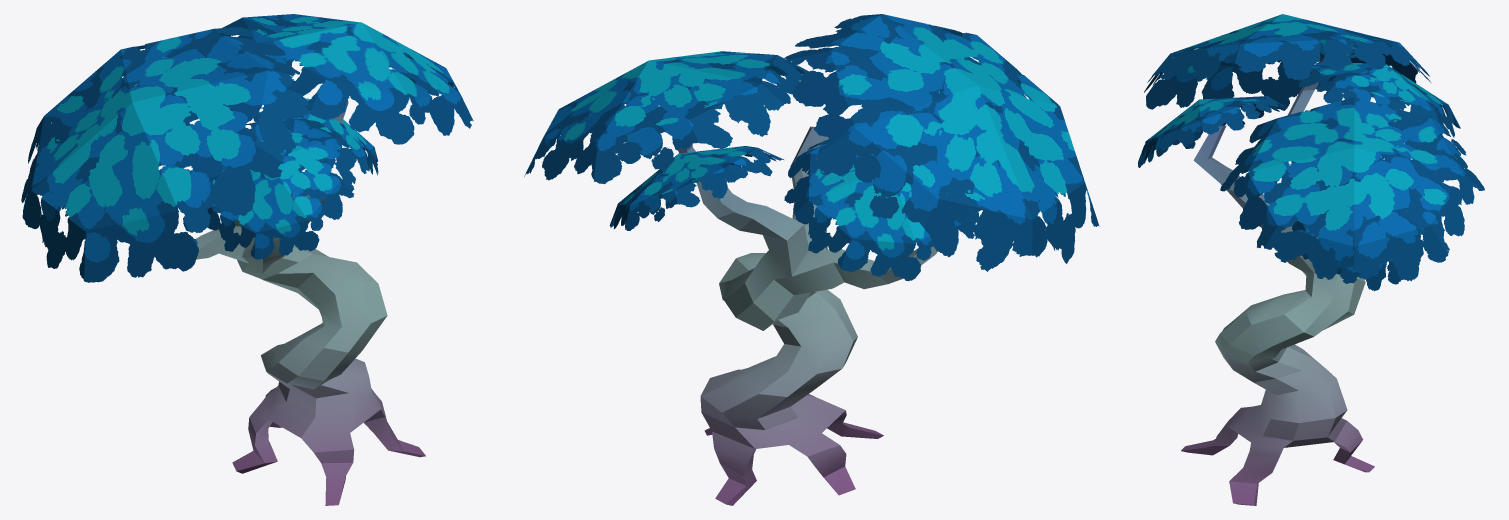
Rendered from WiseTree.fbx.
The picture shows the model from 3 angles, left to right: view 1: azimuth 30°, elevation 25°; view 2: azimuth 150°, elevation 25°; view 3: azimuth 270°, elevation 25°; orthographic projection. The views are drawn at different scales.
Visible parts, largest first — view 1: Plane.004, Trunk, Plane.005, Plane.001, Plane.003; view 2: Plane.004, Trunk, Plane.005, Plane.002, Plane.003; view 3: Plane.005, Trunk, Plane.004, Plane.002, Plane.001, Plane.003.
Part boxes in pixels (x1,y1,x2,y2): Plane.004: (21, 27, 309, 282); Trunk: (196, 99, 425, 505); Plane.005: (219, 14, 473, 144); Plane.001: (207, 115, 355, 259); Plane.003: (252, 98, 378, 175); Plane.004: (784, 14, 1099, 271); Trunk: (678, 126, 937, 505); Plane.005: (524, 51, 808, 184); Plane.002: (784, 138, 979, 281); Plane.003: (609, 146, 783, 230); Plane.005: (1220, 97, 1484, 281); Trunk: (1181, 56, 1374, 505); Plane.004: (1144, 14, 1431, 110); Plane.002: (1287, 62, 1460, 137); Plane.001: (1138, 96, 1287, 167); Plane.003: (1292, 184, 1444, 291).
Bounding box in the file's own units: 11121 × 10030 × 8303.
Materials: 2 (2 with a texture image).
